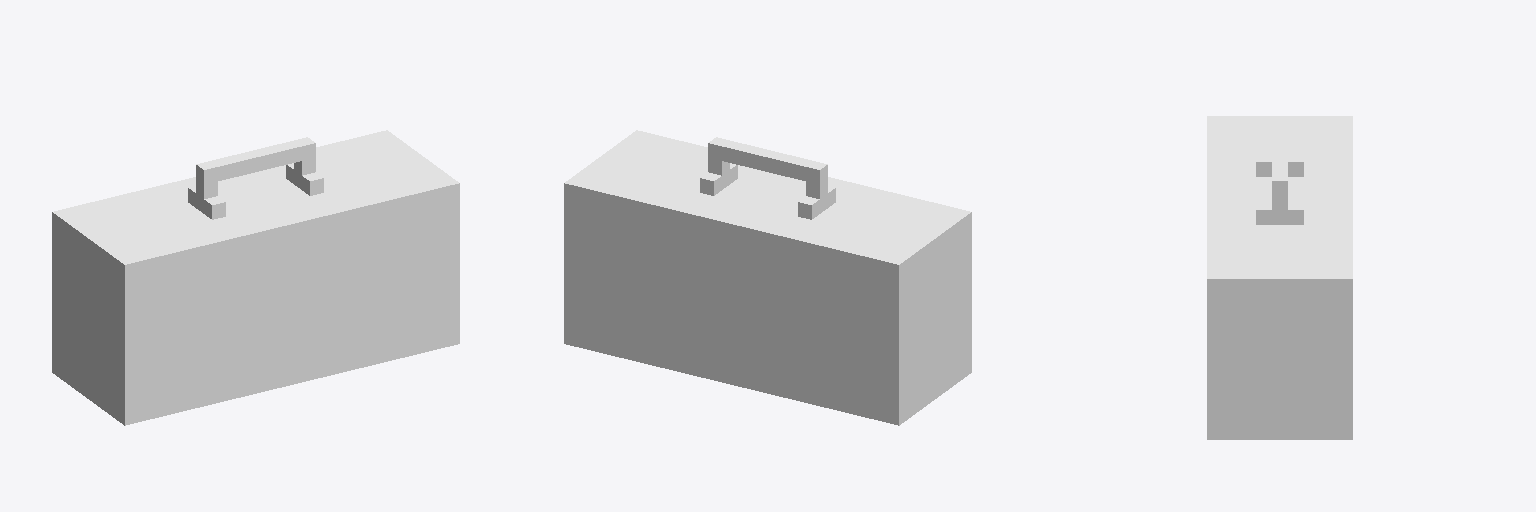
The model's file is suitcase.obj.
3 views of the same model, side by side, from view 1: azimuth 30°, elevation 25°; view 2: azimuth 150°, elevation 25°; view 3: azimuth 270°, elevation 25° (orthographic).
Parts seen in each view (by area): view 1: object 1; view 2: object 1; view 3: object 1.
Part boxes in pixels (x1,y1,x2,y2): object 1: (52, 130, 459, 425); object 1: (564, 130, 971, 425); object 1: (1207, 116, 1352, 439).
Bounding box in the file's own units: 2.4 × 1.4 × 0.9.